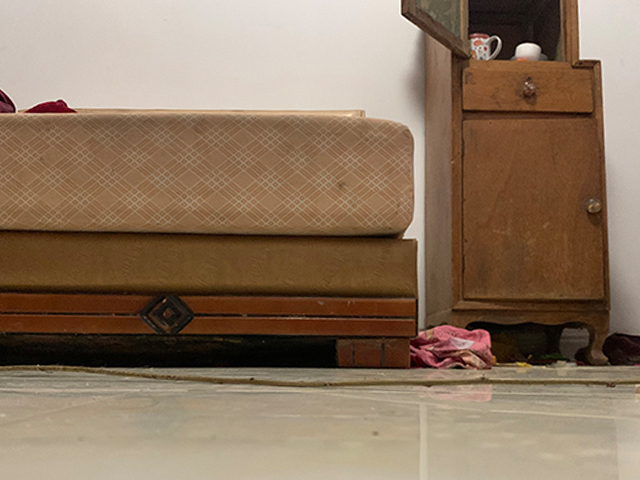cabinet: (402, 1, 614, 366)
sofa: (1, 89, 418, 368)
